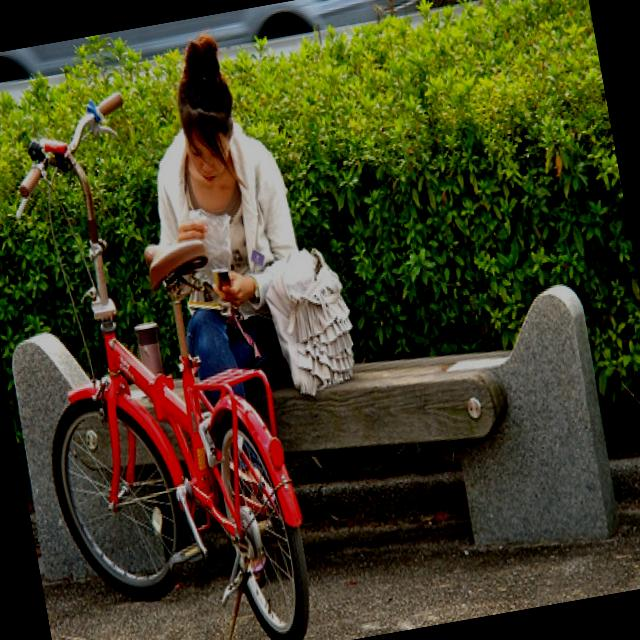Vehicle: (0, 0, 426, 97)
